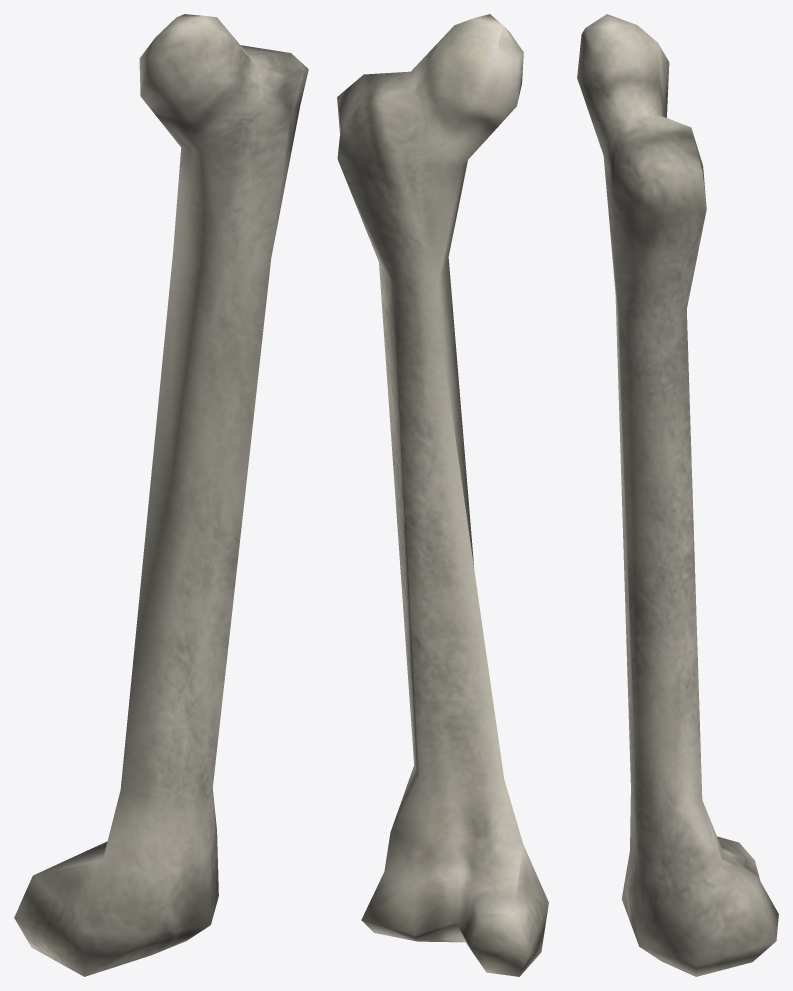
File: femurIzq.obj
The picture shows the model from 3 angles, left to right: view 1: azimuth 30°, elevation 25°; view 2: azimuth 150°, elevation 25°; view 3: azimuth 270°, elevation 25°; orthographic projection. The views are drawn at different scales.
Parts seen in each view (by area): view 1: femurIzq; view 2: femurIzq; view 3: femurIzq.
Boxes of the visible parts, x1,y1,x2,y2 form: femurIzq: (14, 14, 308, 976); femurIzq: (337, 14, 548, 976); femurIzq: (577, 14, 778, 976).
Bounding box in the file's own units: 0.1415 × 0.5173 × 0.1004.
